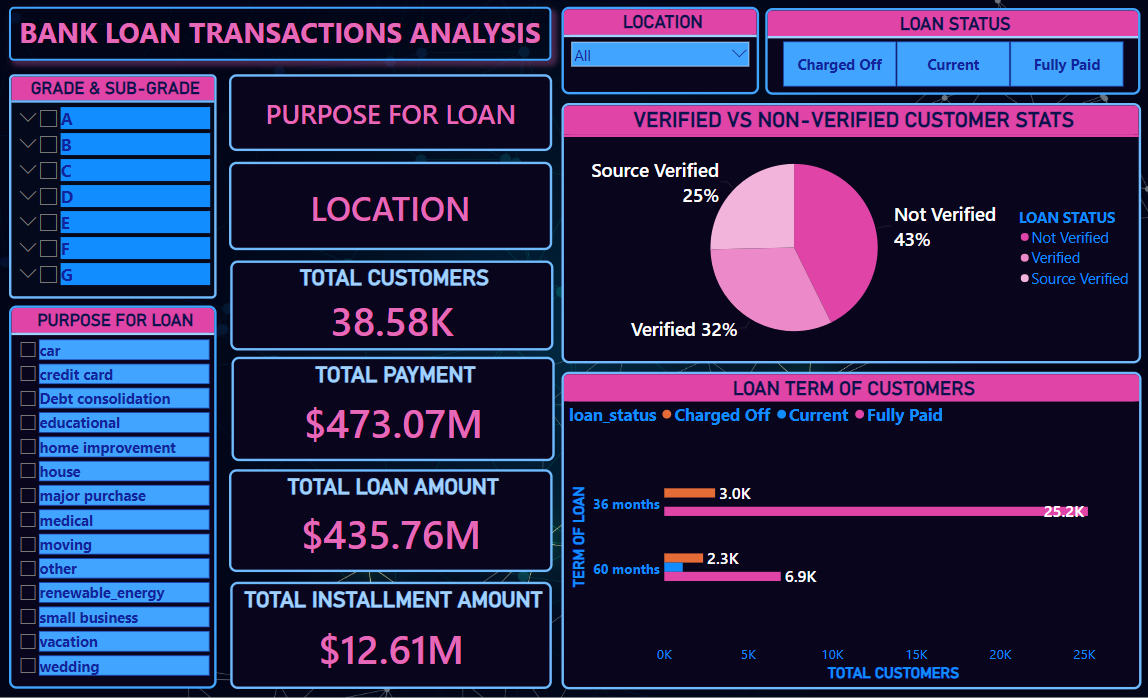

The dashboard page shown, as its layout file describes it:
{"tool":"powerbi","page":{"name":"PAGE 2 ","canvas":[2300,1400],"ordinal":1},"visuals":[{"type":"textbox","box":[20.5,17.9,1084.6,107.7],"z":0},{"type":"card","title":"TOTAL CUSTOMERS","fields":{"Values":["financial_loan.No of Customers"]},"box":[462,525.4,646.5,180.3],"z":1000},{"type":"slicer","title":"GRADE & SUB-GRADE","fields":{"Values":["financial_loan.grade","financial_loan.sub_grade"]},"box":[20.5,151.3,415.4,448.7],"z":2000},{"type":"slicer","title":"PURPOSE FOR LOAN","fields":{"Values":["financial_loan.purpose"]},"box":[20.5,615.4,415.4,766.7],"z":3000},{"type":"card","title":"PURPOSE","fields":{"Values":["financial_loan.Purpose Measure"]},"box":[459,151.3,646.2,153.8],"z":4000},{"type":"pieChart","title":"VERIFIED VS NON-VERIFIED CUSTOMER STATS","fields":{"Category":["financial_loan.verification_status"],"Y":["financial_loan.Total Customers"]},"box":[1125.6,210.3,1159,520.5],"z":5000},{"type":"card","title":"TOTAL LOAN AMOUNT","fields":{"Values":["Sum(financial_loan.loan_amount)"]},"box":[460.5,942.1,647.4,205.3],"z":6000},{"type":"slicer","title":"LOAN STATUS","fields":{"Values":["financial_loan.loan_status"]},"box":[1533.3,19,750,173.8],"z":7000},{"type":"clusteredBarChart","title":"LOAN TERM OF CUSTOMERS","fields":{"Category":["financial_loan.term"],"Y":["financial_loan.Total Customers"],"Series":["financial_loan.loan_status"]},"box":[1125,747.5,1160,635],"z":8000},{"type":"card","title":"TOTAL PAYMENT","fields":{"Values":["Sum(financial_loan.total_payment)"]},"box":[464.8,716.9,646.5,208.5],"z":9000},{"type":"card","title":"TOTAL INSTALLMENT AMOUNT","fields":{"Values":["Sum(financial_loan.installment)"]},"box":[461.9,1166.7,642.9,214.3],"z":10000},{"type":"card","fields":{"Values":["financial_loan.COUNTRY SELECT"]},"box":[459,328.2,646.2,176.9],"z":12000},{"type":"slicer","title":"LOCATION","fields":{"Values":["financial_loan.address_state"]},"box":[1125,17.2,395.3,175],"z":13000}]}

Visuals, with their boxes in screenshot pixels (x1, y1, x2, y2), scaled from the page's 2300x1400 canvas onto the 1148x698 screenshot:
textbox: [10, 9, 552, 63]
"TOTAL CUSTOMERS" card: [231, 262, 553, 352]
"GRADE & SUB-GRADE" slicer: [10, 75, 218, 299]
"PURPOSE FOR LOAN" slicer: [10, 307, 218, 689]
"PURPOSE" card: [229, 75, 552, 152]
"VERIFIED VS NON-VERIFIED CUSTOMER STATS" pieChart: [562, 105, 1140, 364]
"TOTAL LOAN AMOUNT" card: [230, 470, 553, 572]
"LOAN STATUS" slicer: [765, 9, 1140, 96]
"LOAN TERM OF CUSTOMERS" clusteredBarChart: [562, 373, 1141, 689]
"TOTAL PAYMENT" card: [232, 357, 555, 461]
"TOTAL INSTALLMENT AMOUNT" card: [231, 582, 551, 689]
card - financial_loan.COUNTRY SELECT: [229, 164, 552, 252]
"LOCATION" slicer: [562, 9, 759, 96]
